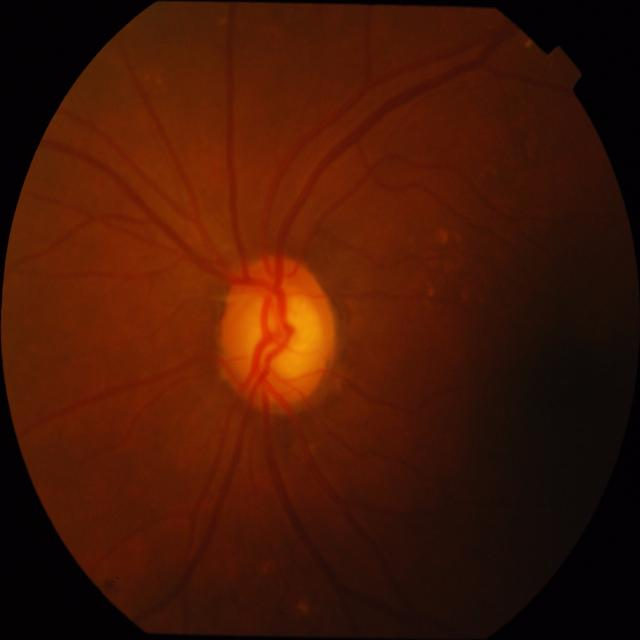OC: (223, 266, 325, 401)
OD: (218, 256, 337, 406)
